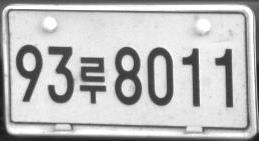0: (146, 47, 173, 106)
1: (179, 47, 207, 106), (212, 48, 240, 107)
3: (46, 45, 74, 103)
8: (114, 45, 142, 105)
9: (15, 43, 43, 102)
루: (79, 55, 106, 104)
